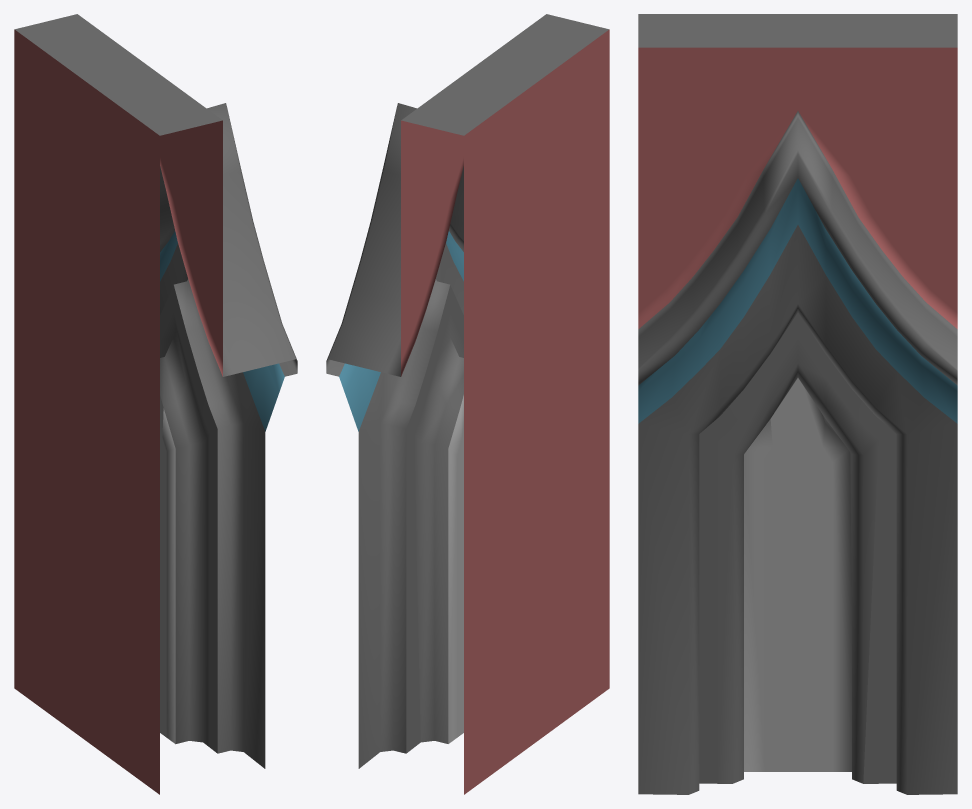
Rendered from Templewall2.fbx.
3 renders of one model, left to right at view 1: azimuth 30°, elevation 25°; view 2: azimuth 150°, elevation 25°; view 3: azimuth 270°, elevation 25°, orthographic. The views are drawn at different scales.
Parts seen in each view (by area): view 1: ElsTemExBaSmall01:Cube_966; view 2: ElsTemExBaSmall01:Cube_966; view 3: ElsTemExBaSmall01:Cube_966.
Boxes of the visible parts, bbox=[...] form: ElsTemExBaSmall01:Cube_966: bbox=[14, 14, 297, 794]; ElsTemExBaSmall01:Cube_966: bbox=[326, 14, 609, 794]; ElsTemExBaSmall01:Cube_966: bbox=[638, 14, 957, 794].
Bounding box in the file's own units: 7.11 × 32 × 12.8.
